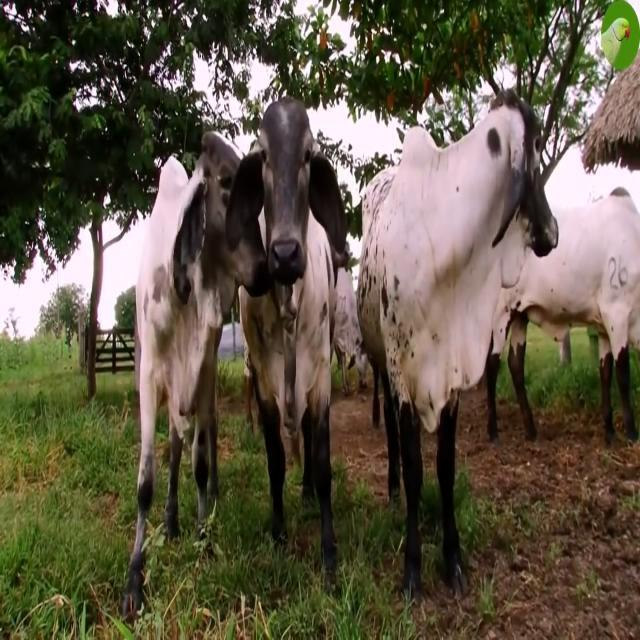COW: (359, 96, 558, 598), (122, 132, 264, 617), (231, 99, 346, 583), (485, 189, 640, 442)
